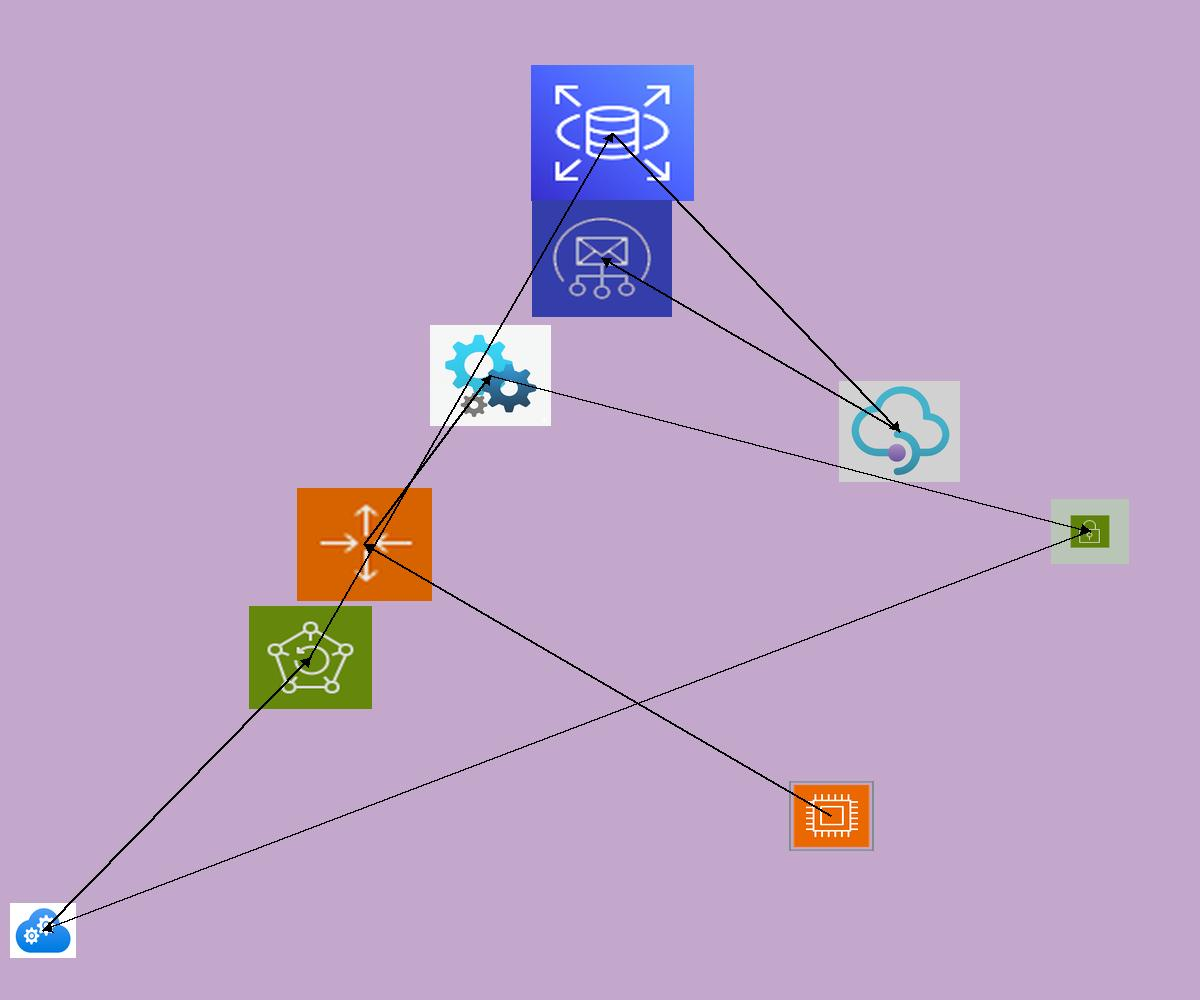AWS-Backup: (249, 606, 372, 709)
AWS-Category_Compute: (789, 781, 874, 851)
AWS-Public-subnet: (1051, 499, 1129, 564)
AWS-RDS: (531, 65, 694, 201)
AWS-Scaling-group: (297, 488, 432, 601)
AWS-Simple-Email-Service: (532, 200, 672, 317)
Azure_api: (430, 325, 551, 426)
Azure_api_gateway: (839, 381, 960, 482)
Azure_cloud_services: (10, 903, 76, 958)
